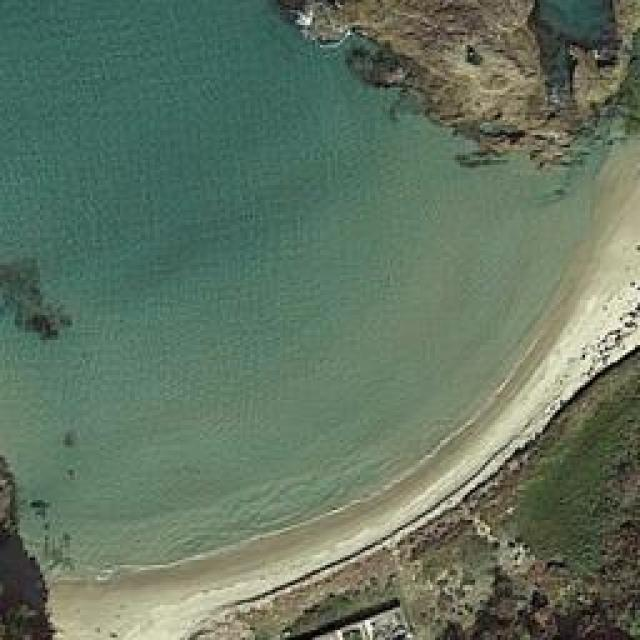Beach: (0, 0, 637, 602)
